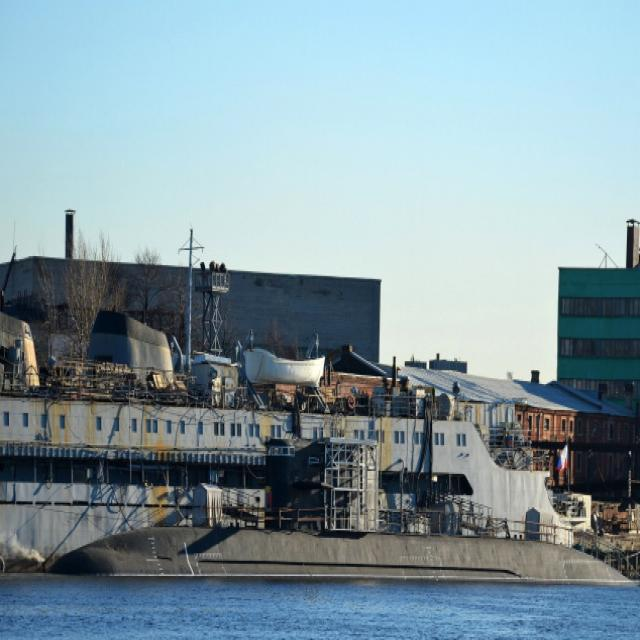submarine: (45, 437, 640, 577)
